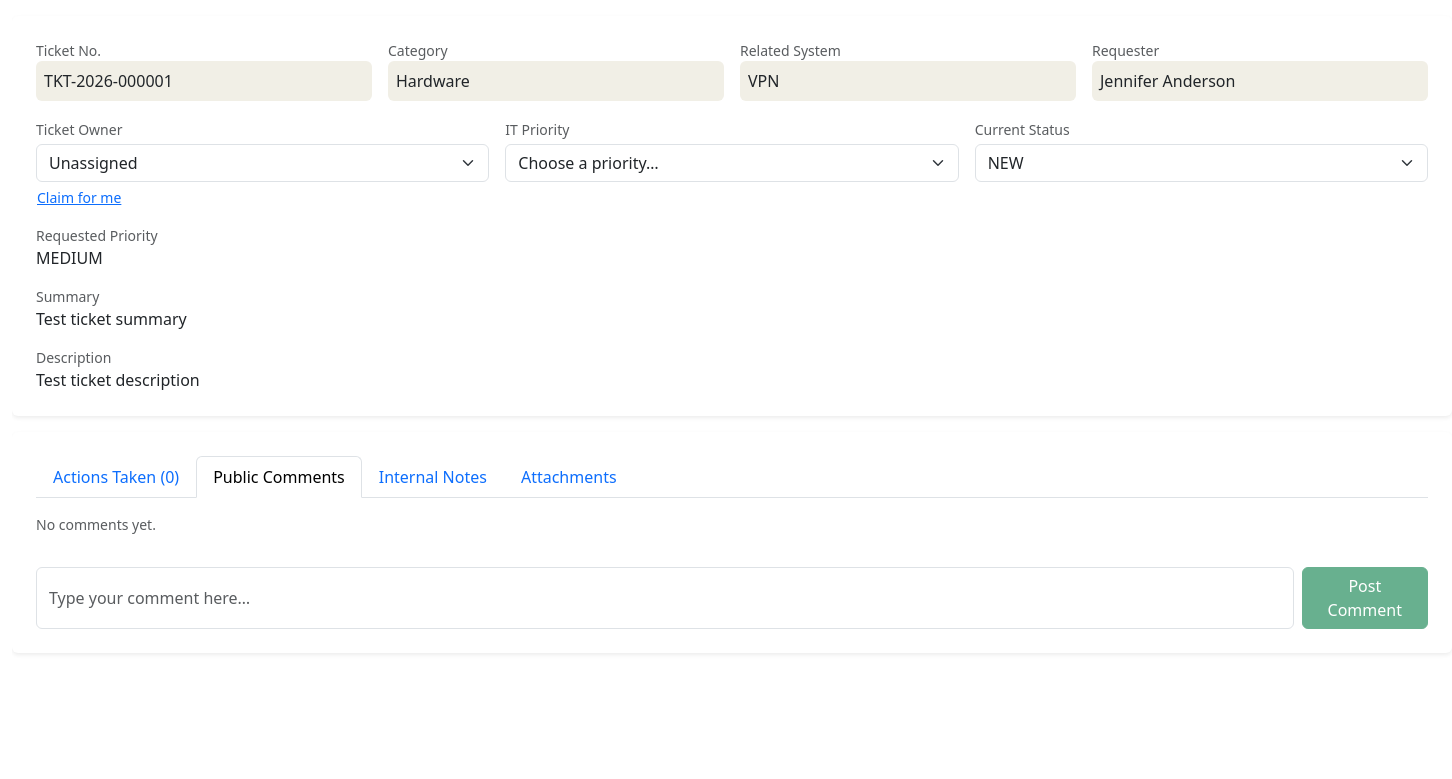
Test case: Actions Taken — IT Staff Ticket Detail › creates an Action Taken and shows it in the list immediately (AC-01)
Click the button "Actions Taken (0)": (116, 477) [36, 456, 196, 498]
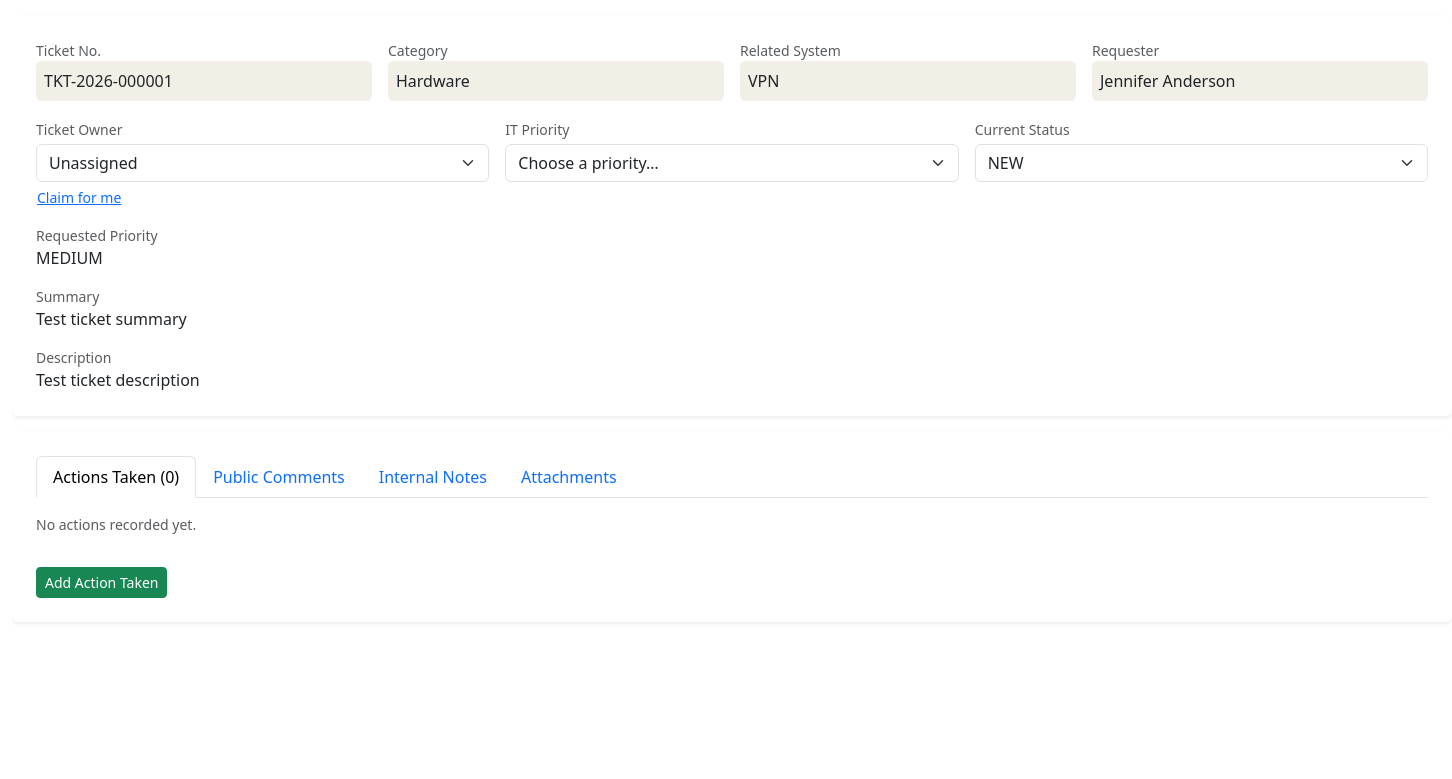
Click the button "Add Action Taken": (102, 583) [36, 567, 168, 598]
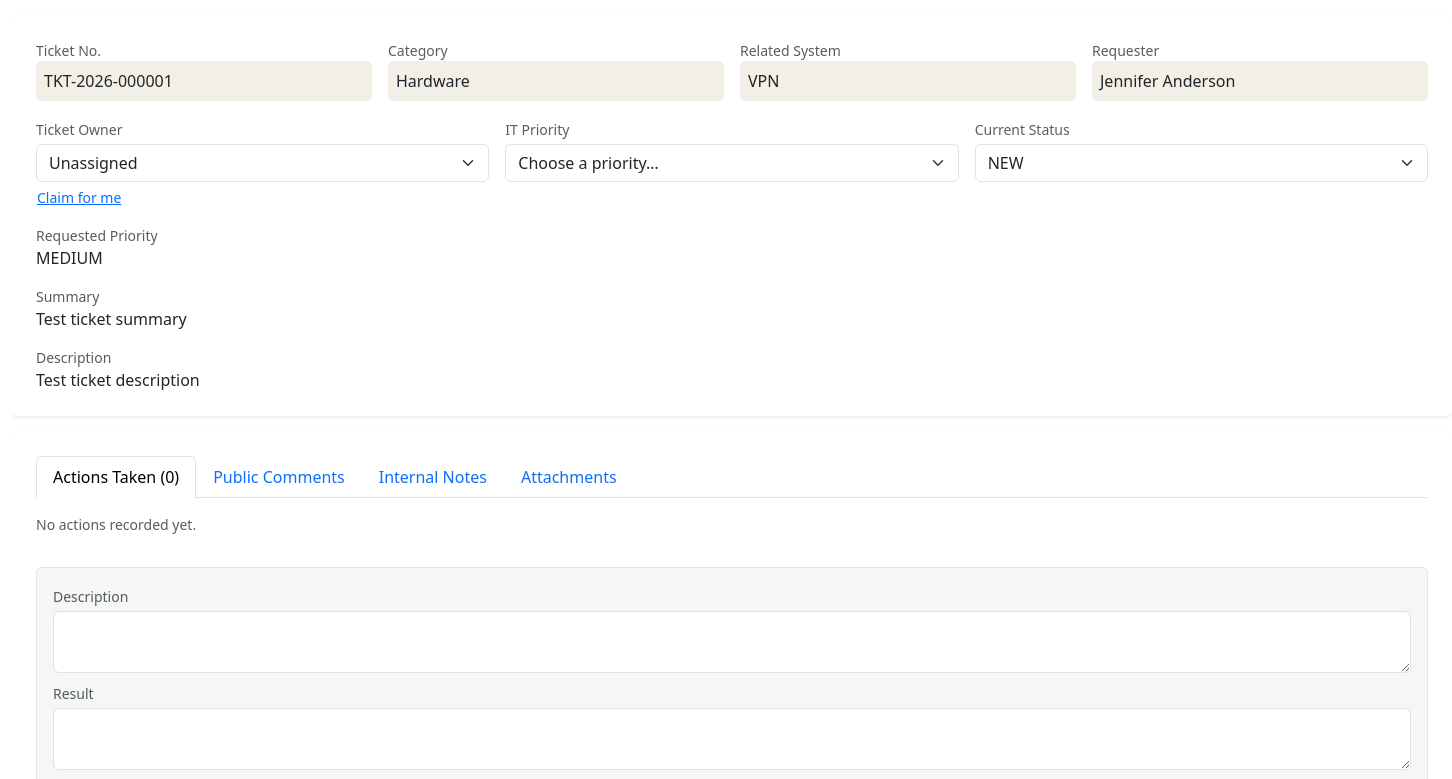
In the text box labelled "Description": (732, 642) [53, 611, 1411, 673], type "Replaced the cable."
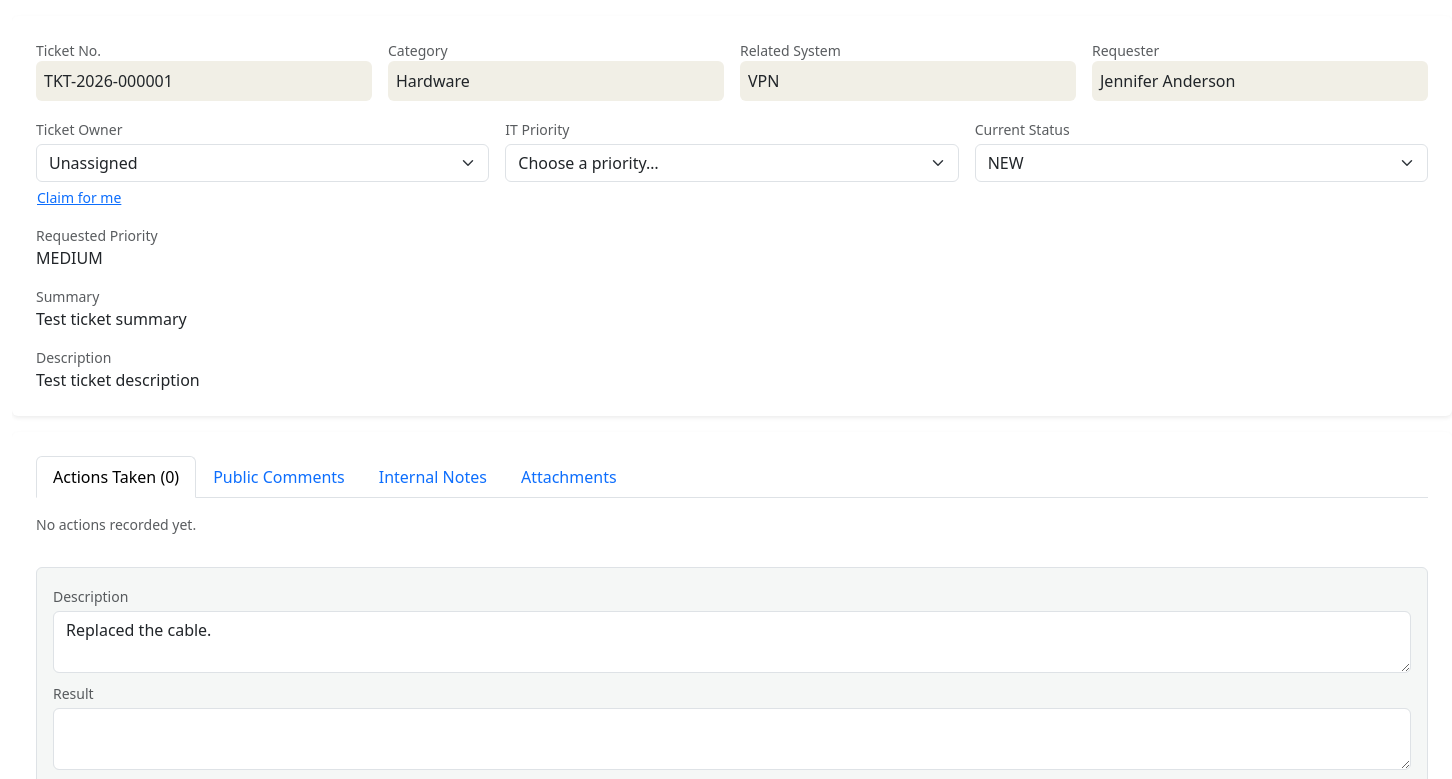
In the text box labelled "Result": (732, 739) [53, 708, 1411, 770], type "Connection restored."
(page scrolled)
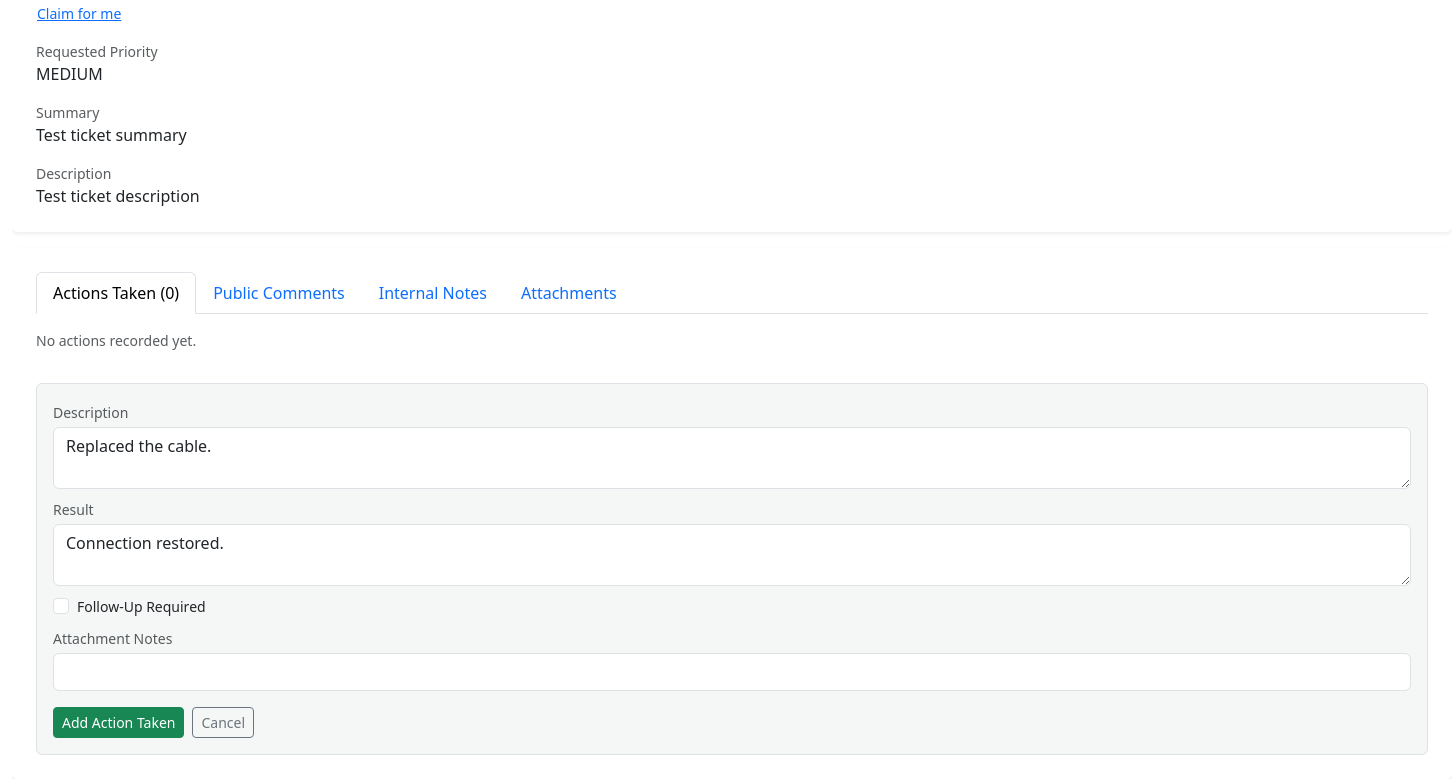
Click the button "Add Action Taken": (119, 723) [53, 707, 184, 738]
(page scrolled)
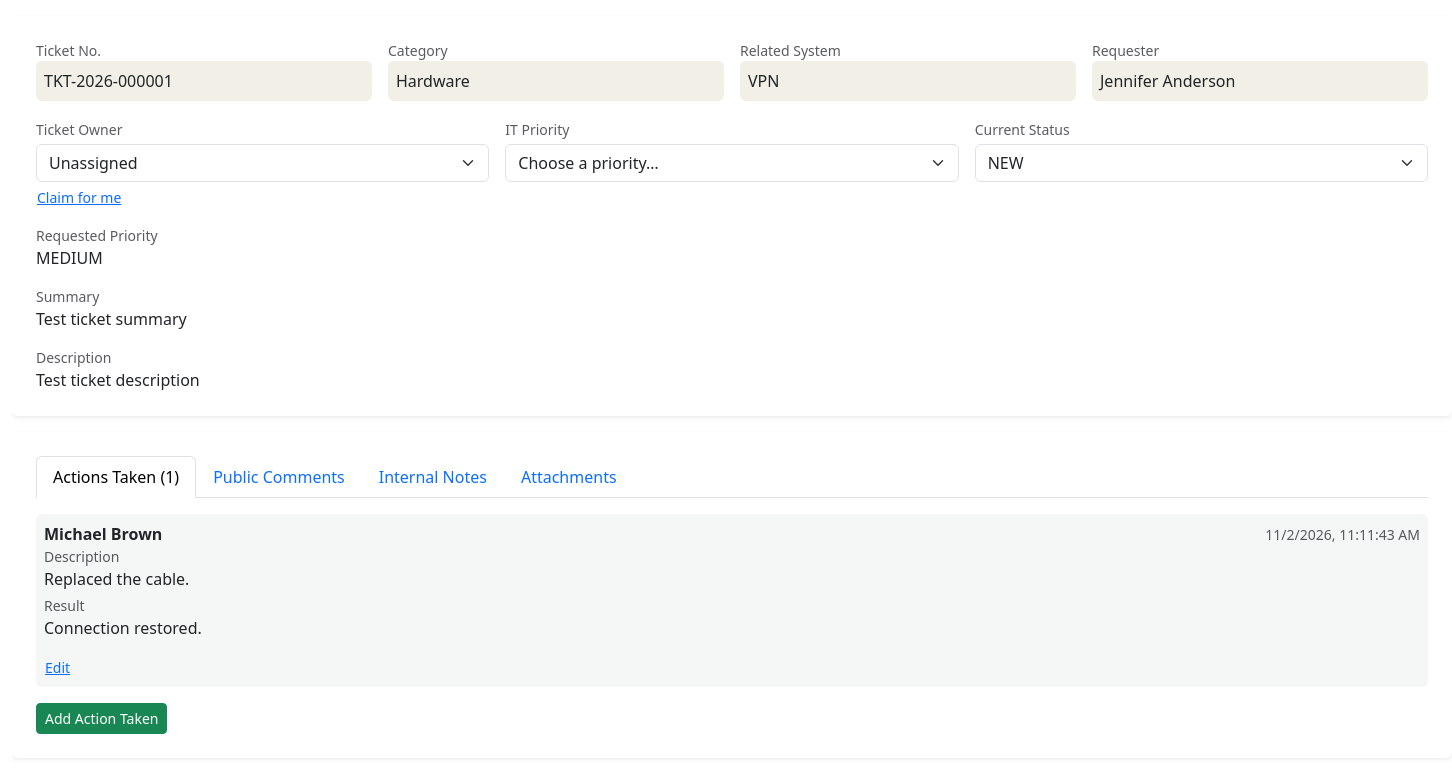
Result: the text "Replaced the cable." is shown at [44, 568, 189, 590]
Result: the button "Actions Taken (1)" is shown at [36, 456, 196, 498]
